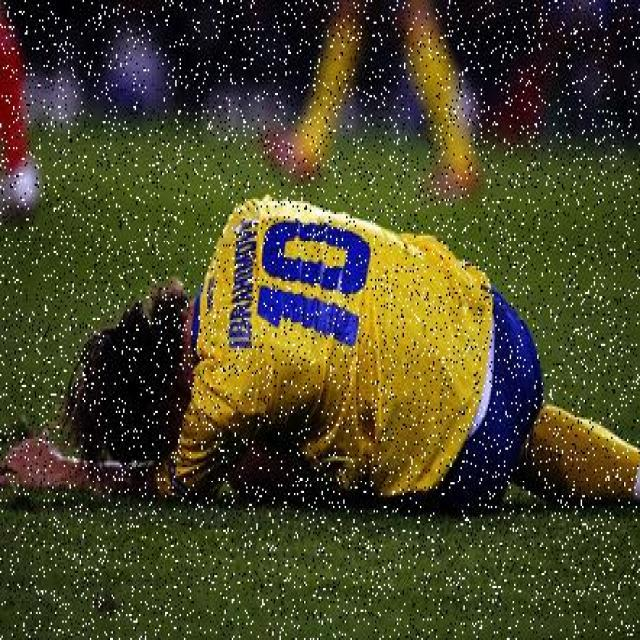fall: (64, 188, 638, 516)
